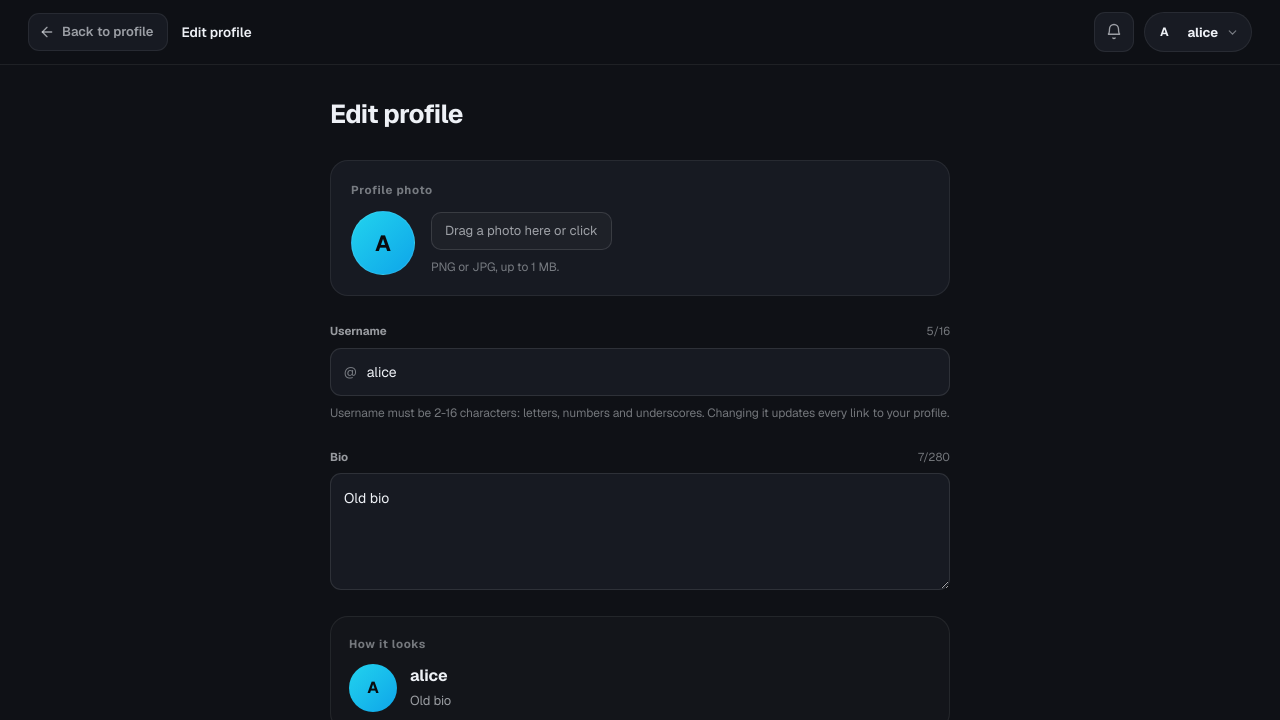
Test: ProfileEditForm › keeps the Saved confirmation visible until the next edit
Replace the text in the text box showing "Old bio" with "New bio" at (640, 532), box left=330, top=473, right=950, bottom=590
(page scrolled)
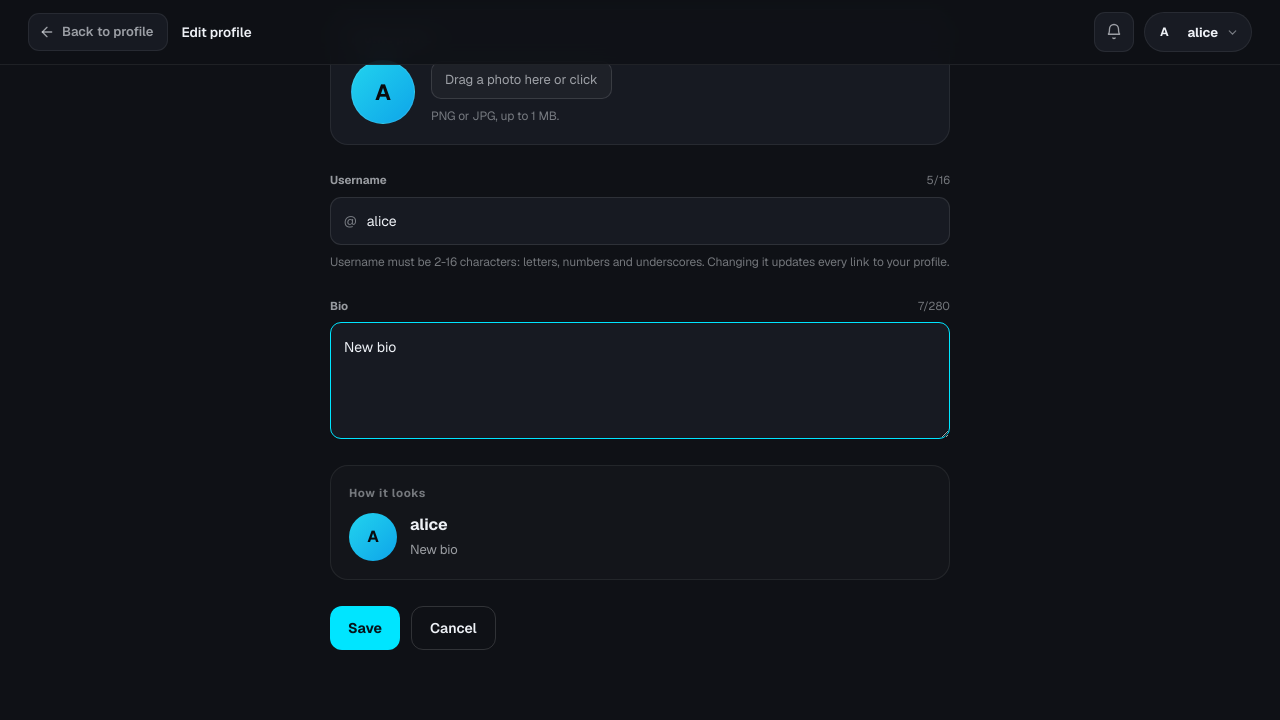
Click the button "Save" at (365, 628), box left=330, top=606, right=400, bottom=650
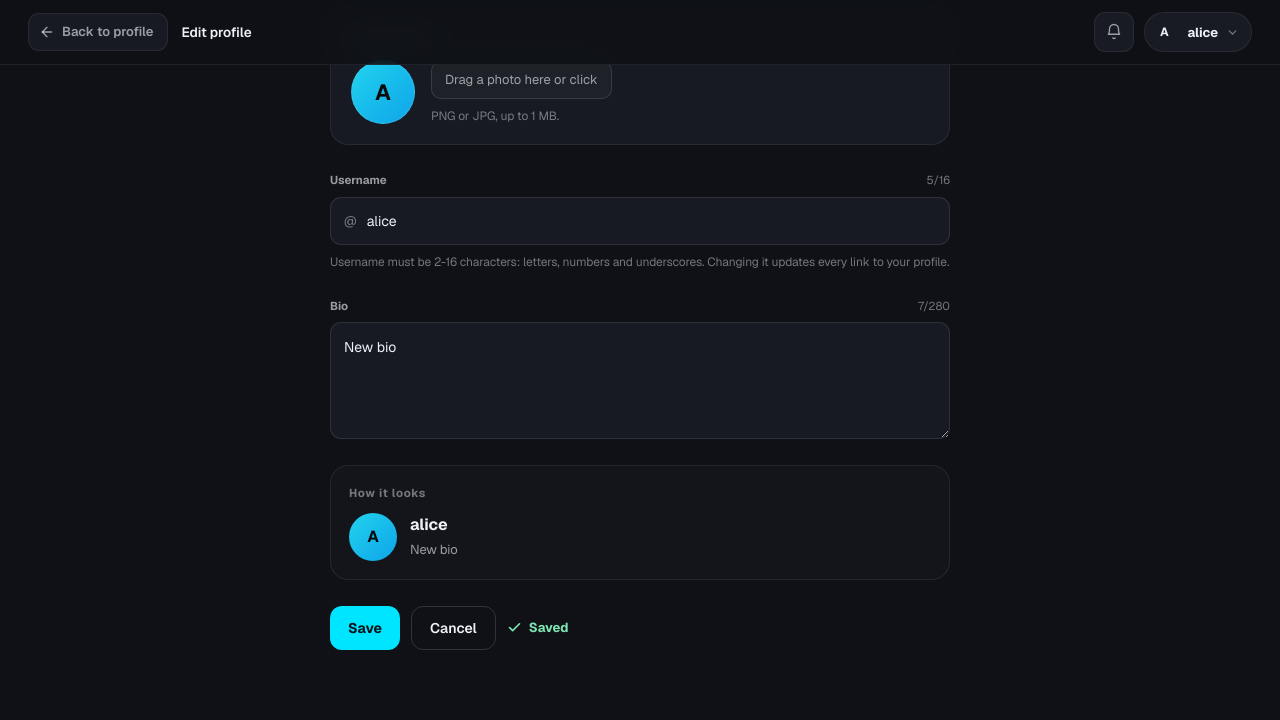
Now the text "Saved" is shown, box left=507, top=618, right=568, bottom=637
Type "!" into the text box showing "Old bio" at (640, 381), box left=330, top=322, right=950, bottom=439
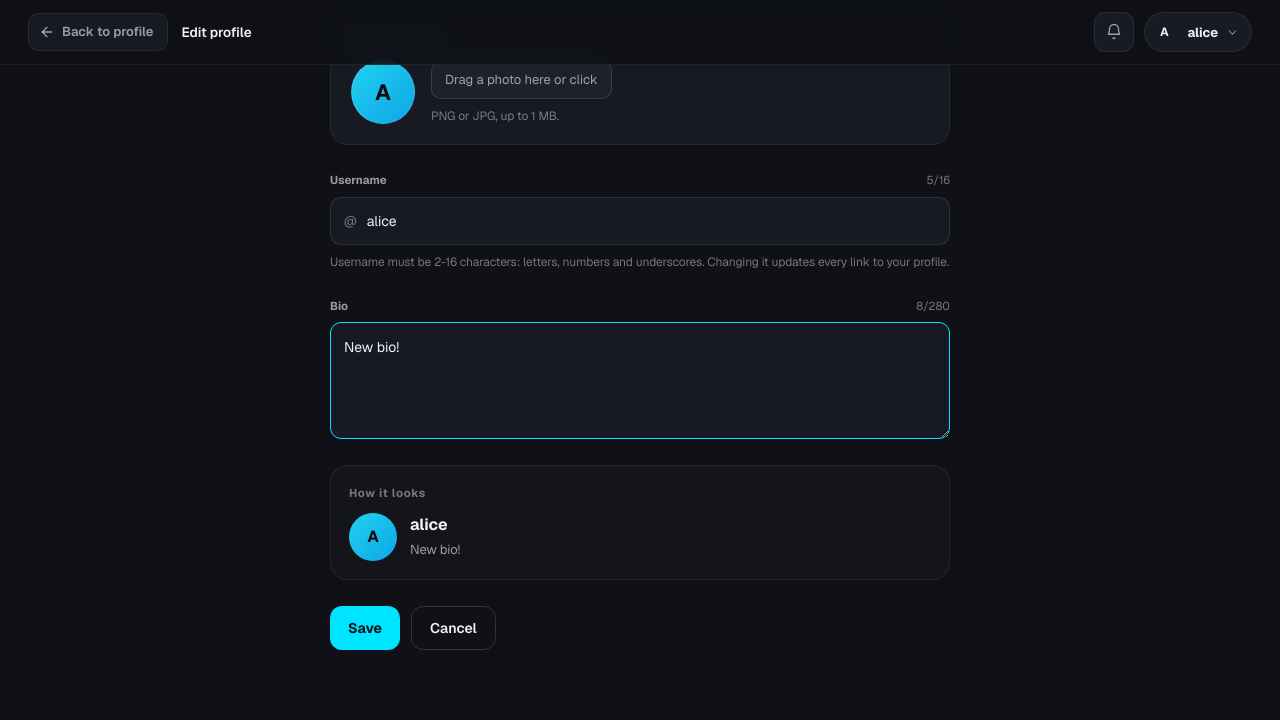
Now the text "Saved" is gone
